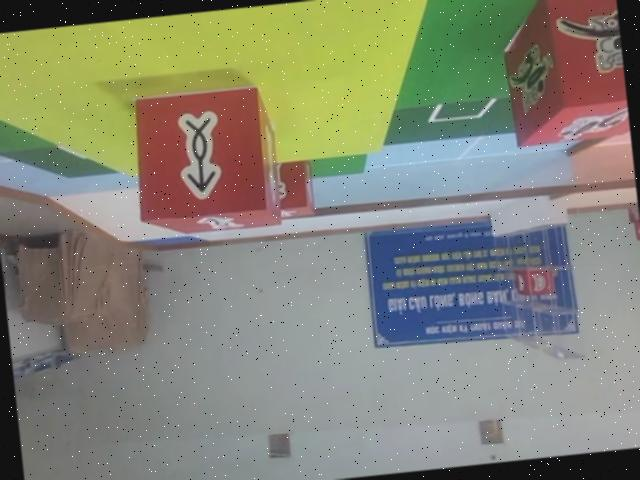R1: (494, 0, 631, 150)
R2 Real: (124, 80, 286, 242)
